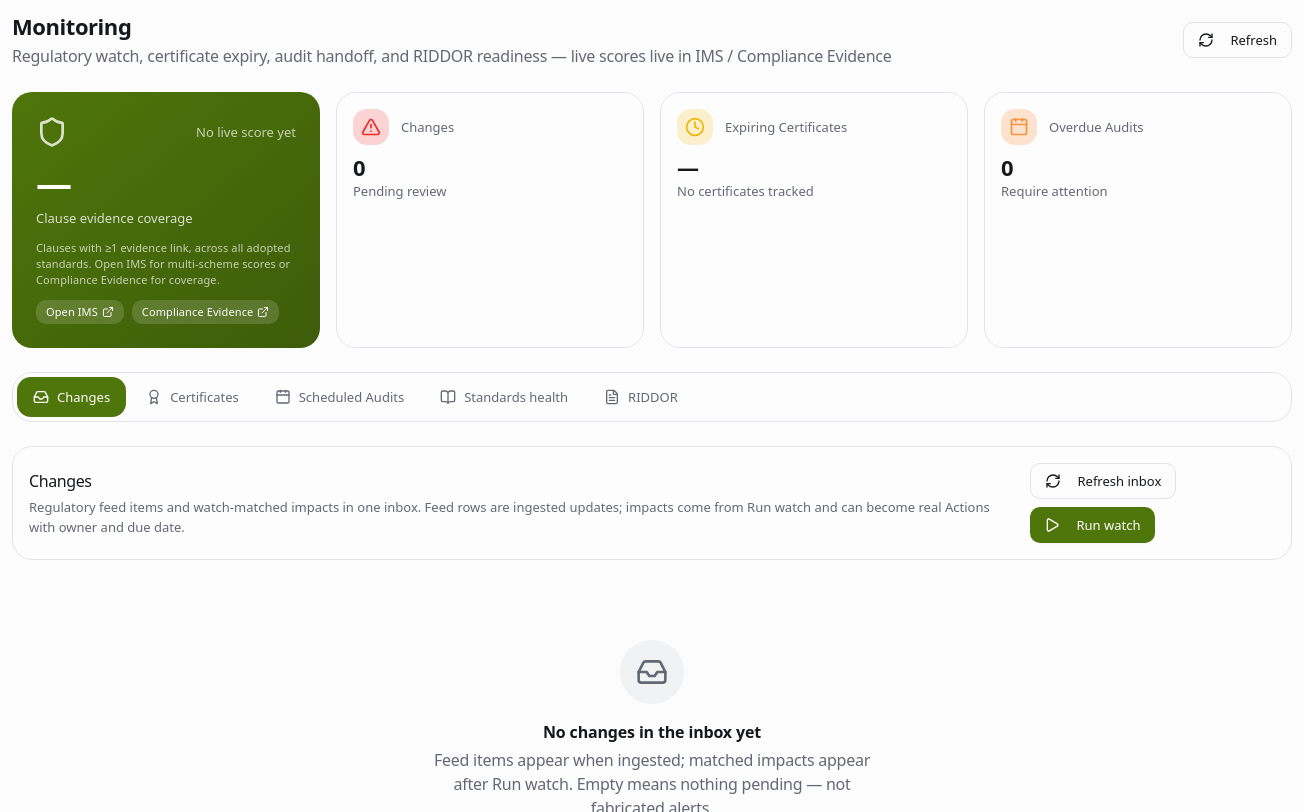
Scenario: ComplianceAutomation monitoring honesty › renders persisted RIDDOR packs with incident and HSE links (CA-W1e)
The image size is (1304, 812).
Expected: the heading "Monitoring" is shown, x1=12 y1=11 x2=131 y2=41
Click the button "RIDDOR".
click(641, 397)  # box x1=588 y1=377 x2=694 y2=417
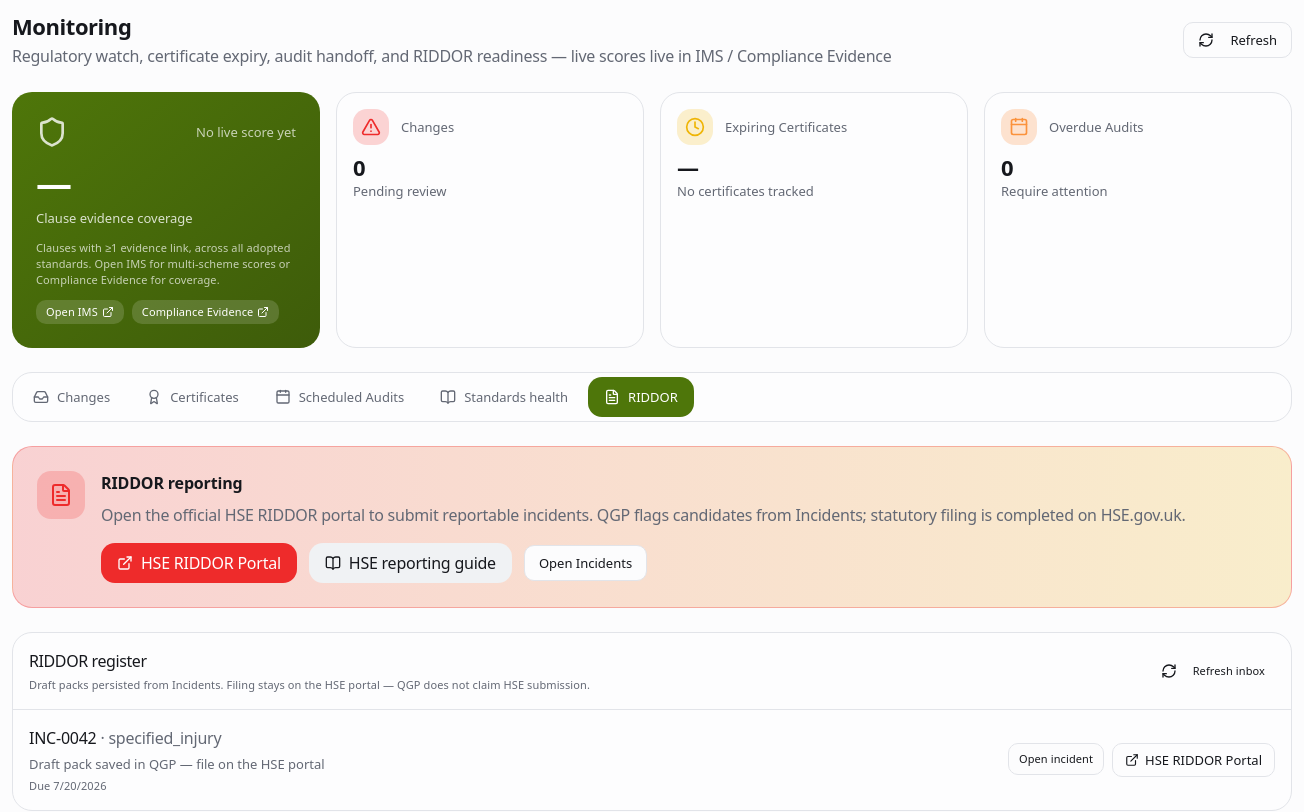
Expected: the element with test id "monitoring-riddor-pack-11" is shown, x1=13 y1=710 x2=1291 y2=810
Expected: the text "INC-0042 · specified_injury" is shown, x1=29 y1=727 x2=221 y2=749
